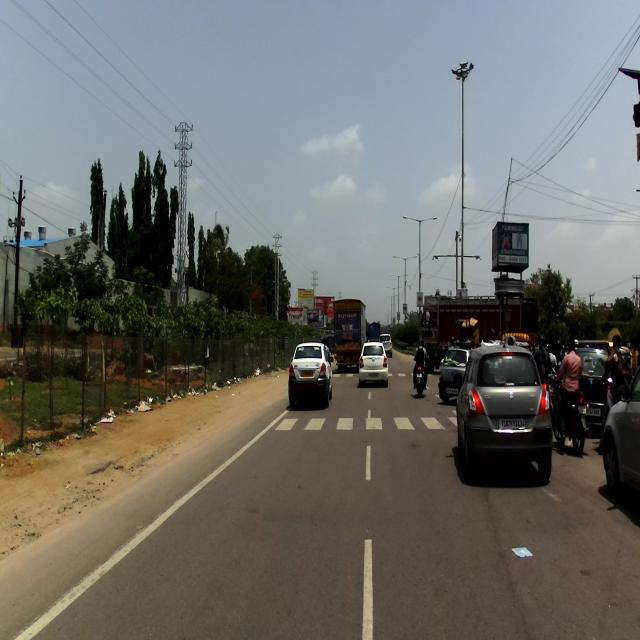car: (454, 345, 554, 479), (286, 338, 334, 409), (356, 342, 389, 386)
motorcycle: (551, 370, 591, 454), (412, 355, 430, 395)
